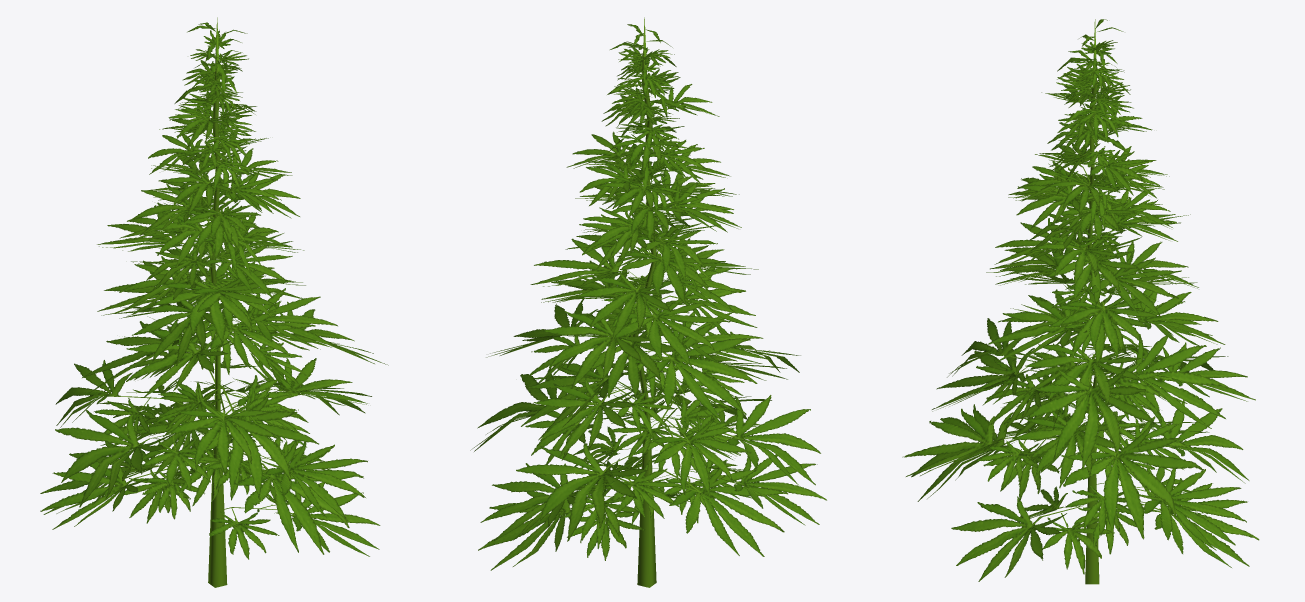
The model's file is kytka_mari_vysoka.glb.
The picture shows the model from 3 angles, left to right: view 1: azimuth 30°, elevation 25°; view 2: azimuth 150°, elevation 25°; view 3: azimuth 270°, elevation 25°; orthographic projection.
Parts seen in each view (by area): view 1: kytka_mari_vysoka_0; view 2: kytka_mari_vysoka_0; view 3: kytka_mari_vysoka_0.
Part boxes in pixels (x1,y1,x2,y2): kytka_mari_vysoka_0: (40,17,388,587); kytka_mari_vysoka_0: (470,17,826,587); kytka_mari_vysoka_0: (902,19,1259,584).
Bounding box in the file's own units: 0.658 × 1 × 0.6474.
1 material, 1 textured.
